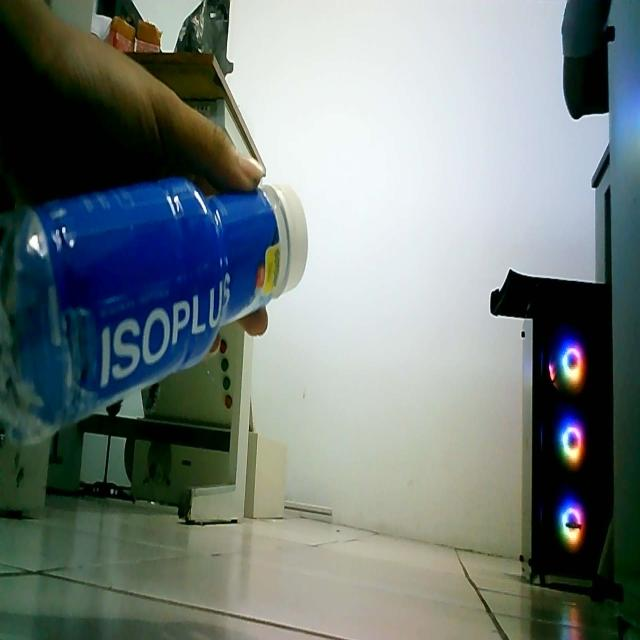botol: (1, 167, 315, 460)
